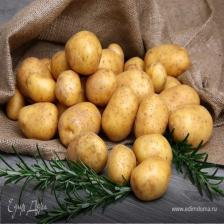Potato: (101, 84, 139, 142), (58, 102, 102, 149), (168, 104, 214, 148), (15, 53, 58, 98), (130, 155, 171, 201), (66, 132, 108, 176), (134, 95, 170, 144), (64, 30, 102, 76), (112, 69, 154, 110), (17, 101, 58, 142), (156, 83, 200, 121), (144, 44, 190, 78), (132, 132, 173, 170), (108, 143, 138, 188), (86, 66, 118, 104), (92, 48, 123, 84), (55, 69, 82, 107), (25, 72, 56, 102), (51, 50, 76, 82), (4, 84, 26, 120), (157, 72, 186, 98), (144, 62, 167, 94), (106, 42, 125, 75), (123, 56, 144, 79), (125, 63, 139, 78)
